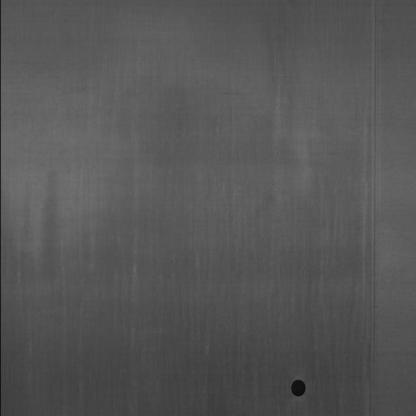punching_hole: (287, 377, 308, 398)
welding_line: (353, 2, 398, 413)
